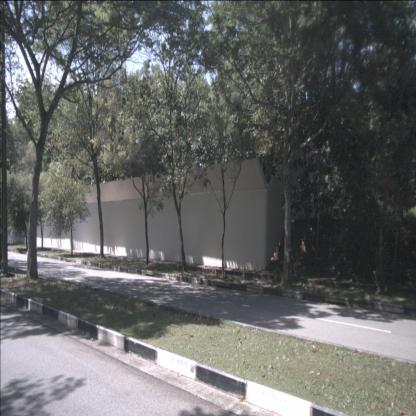human-pedestrian-adult: (371, 242, 392, 297)
vehicle-bicycle: (272, 252, 304, 288)
